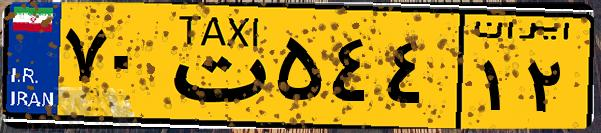0: (110, 28, 158, 98)
1: (475, 38, 525, 113)
2: (525, 38, 570, 115)
4: (385, 28, 445, 110), (330, 28, 385, 110)
5: (270, 28, 330, 110)
7: (57, 26, 110, 100)
ت: (158, 12, 270, 120)
